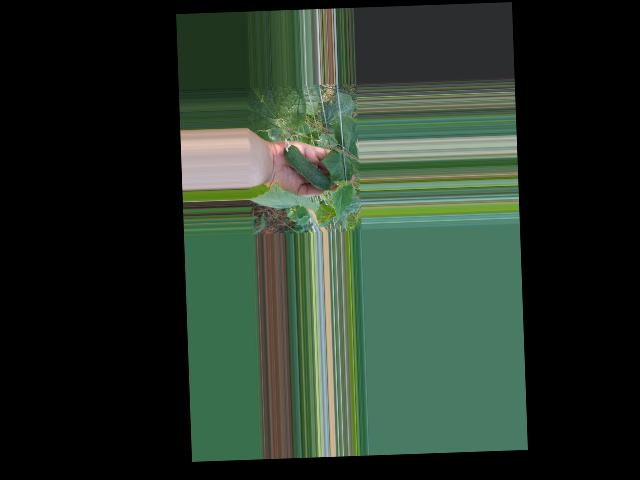cucumber: (282, 136, 331, 191)
